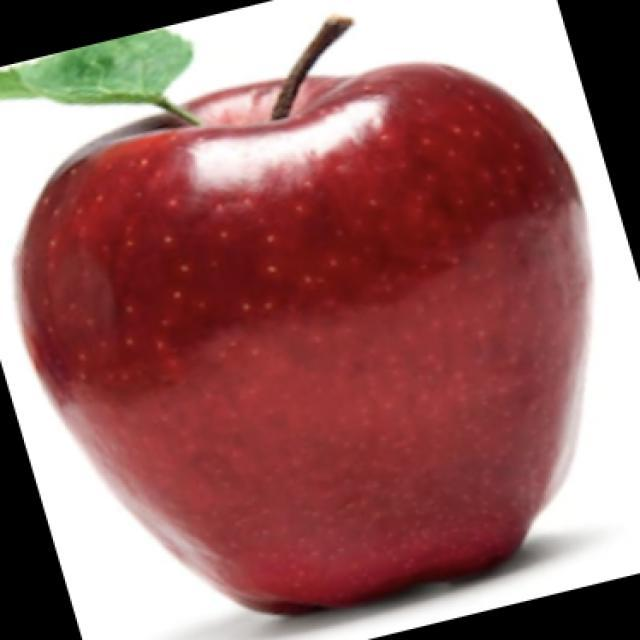Fresh Apple: (32, 71, 568, 612)
